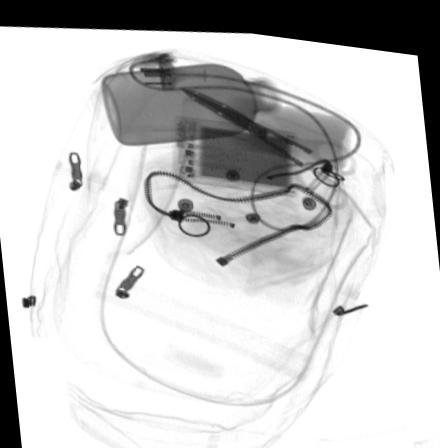Powerbank: (169, 107, 298, 189)
Scissors: (177, 81, 357, 199)
